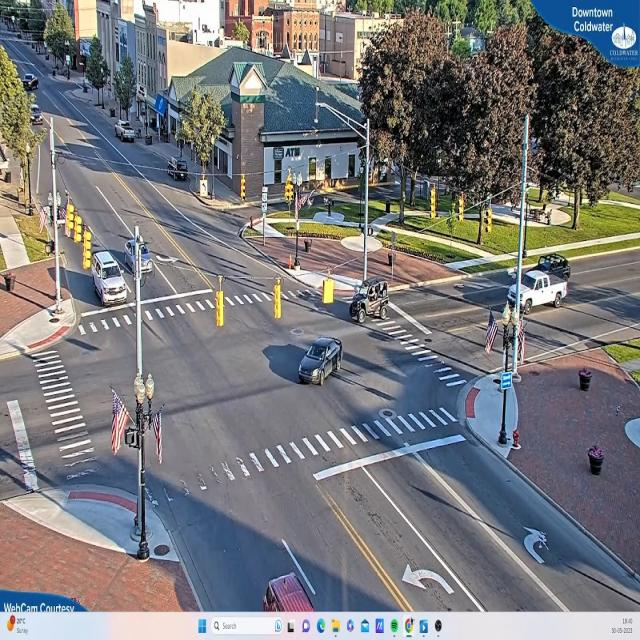car: (296, 335, 344, 387), (510, 268, 564, 314), (91, 251, 128, 306), (350, 275, 389, 323), (123, 237, 155, 274), (538, 249, 572, 278), (15, 68, 38, 91), (115, 123, 136, 143), (31, 106, 41, 121), (34, 109, 42, 123)
